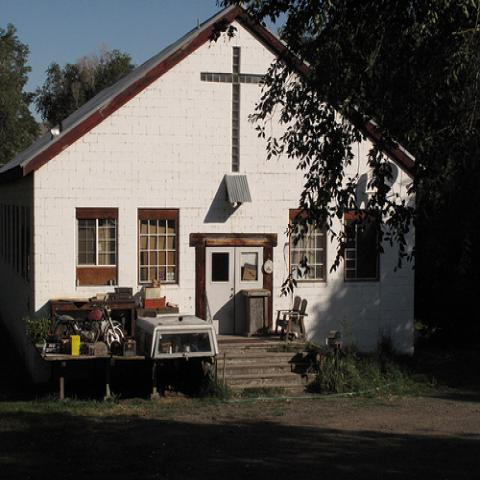motorcycle: (48, 300, 130, 348)
